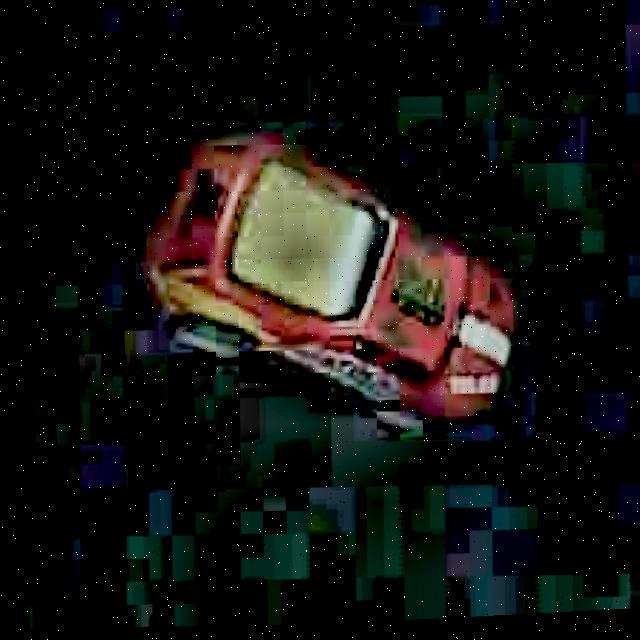car: (122, 104, 548, 459)
